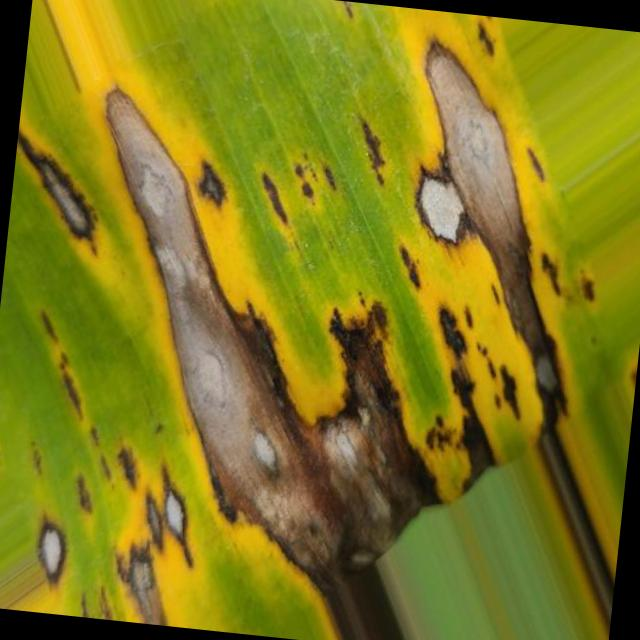Banana_Yellow_Sigatoka: (7, 76, 624, 578)
